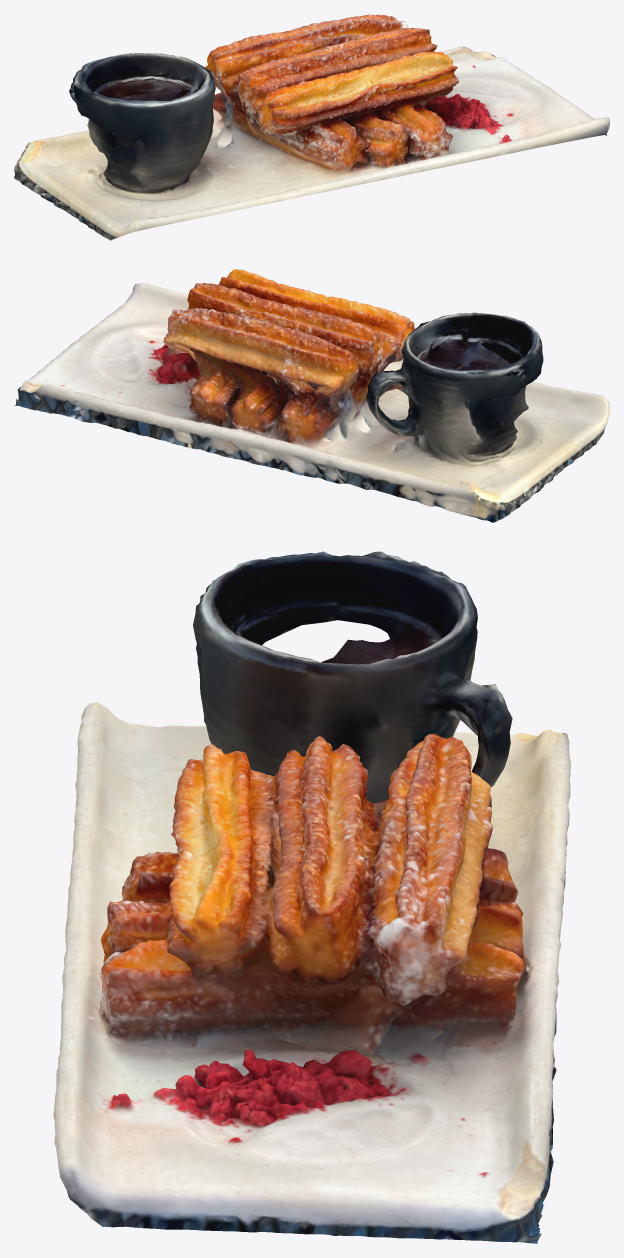
Rendered from churros_coqueta_san_francisco.glb.
3 views of the same model, one above another, from view 1: azimuth 30°, elevation 25°; view 2: azimuth 150°, elevation 25°; view 3: azimuth 270°, elevation 25° (orthographic). The views are drawn at different scales.
Visible parts, largest first — view 1: Object_2; view 2: Object_2; view 3: Object_2.
Part boxes in pixels (box(x1,y1,x2,y2)): Object_2: box(14, 14, 609, 240); Object_2: box(14, 269, 609, 522); Object_2: box(53, 551, 570, 1243).
Bounding box in the file's own units: 0.2693 × 0.0664 × 0.1227.
1 material, 1 textured.
